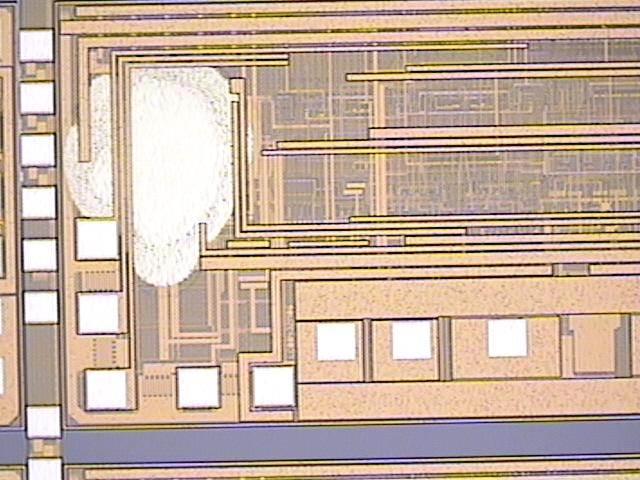BLOCK ETCH: (54, 52, 258, 297)
